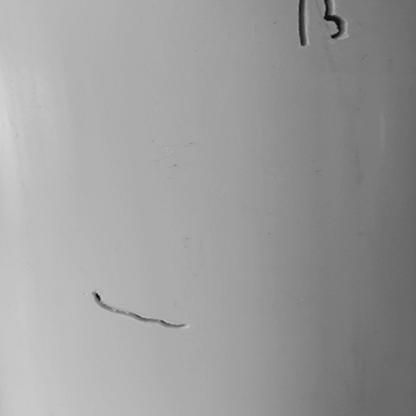fengxi: (88, 292, 200, 330), (296, 2, 350, 46)
